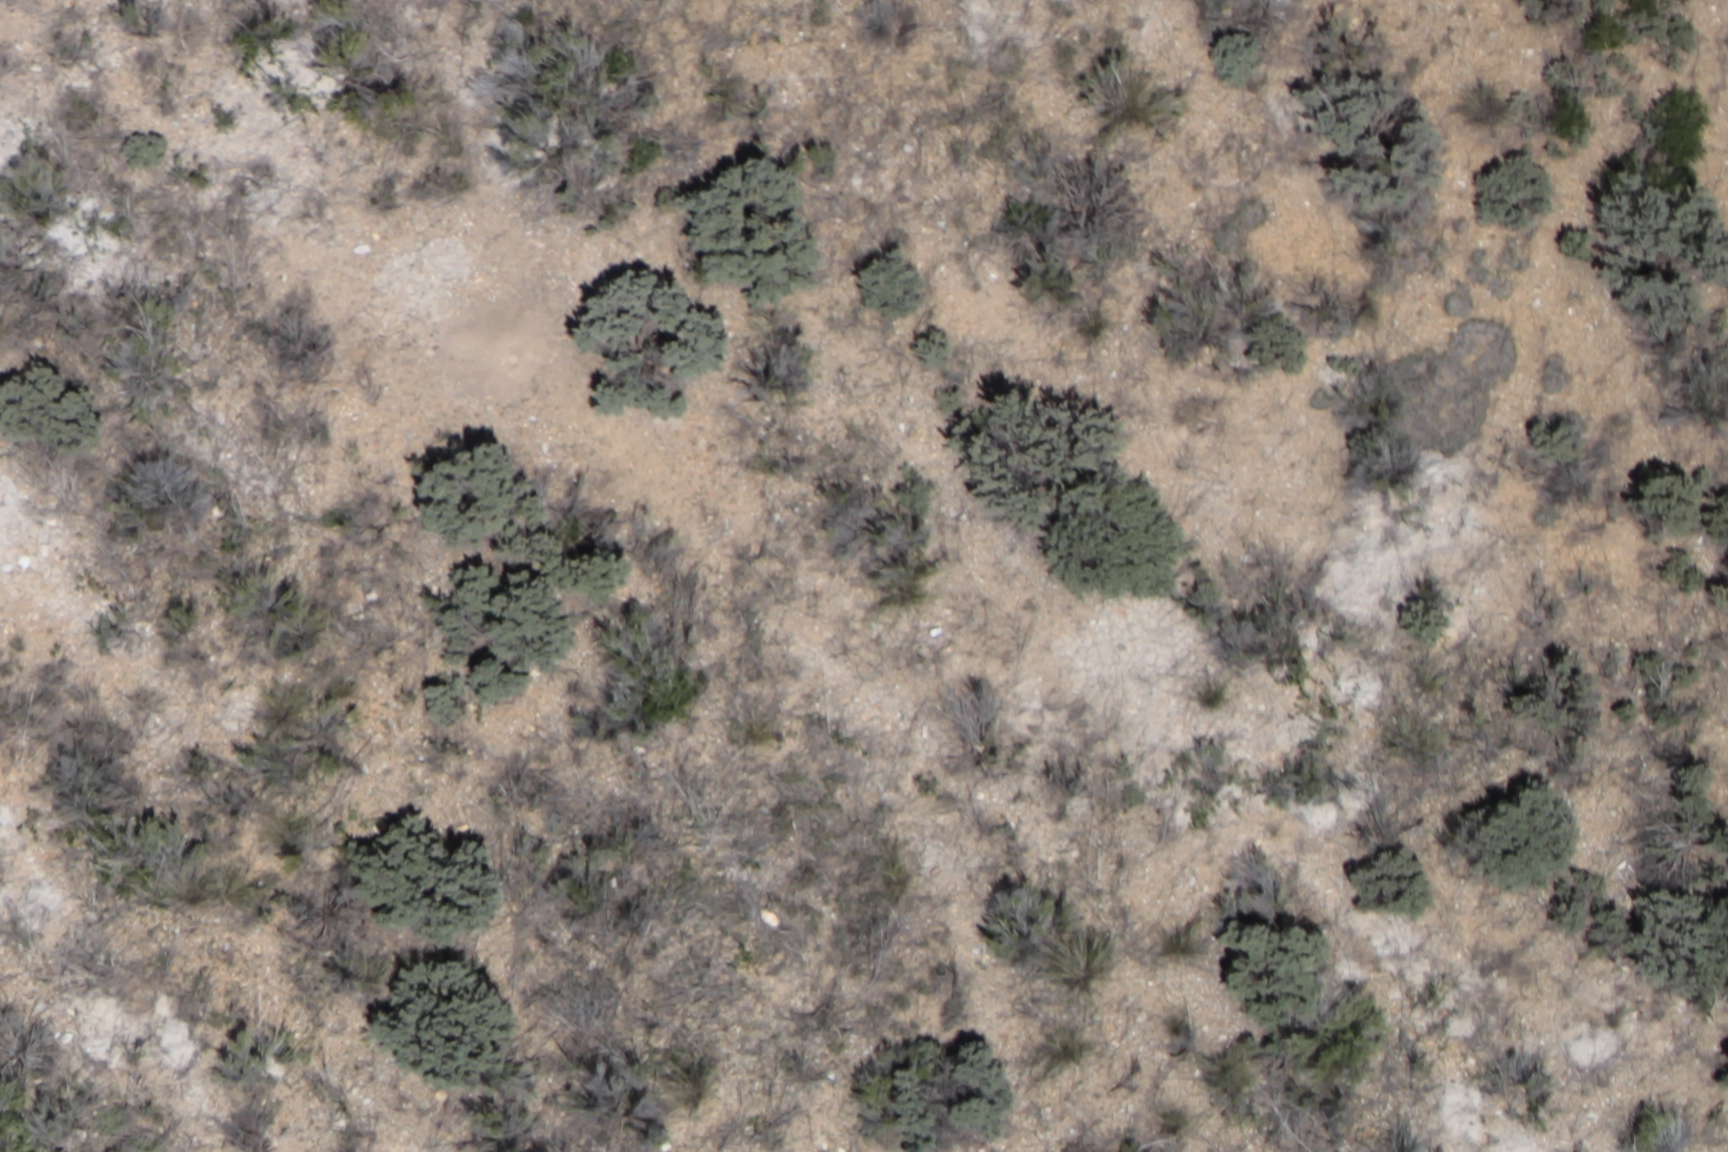burrow: (419, 287, 570, 400)
